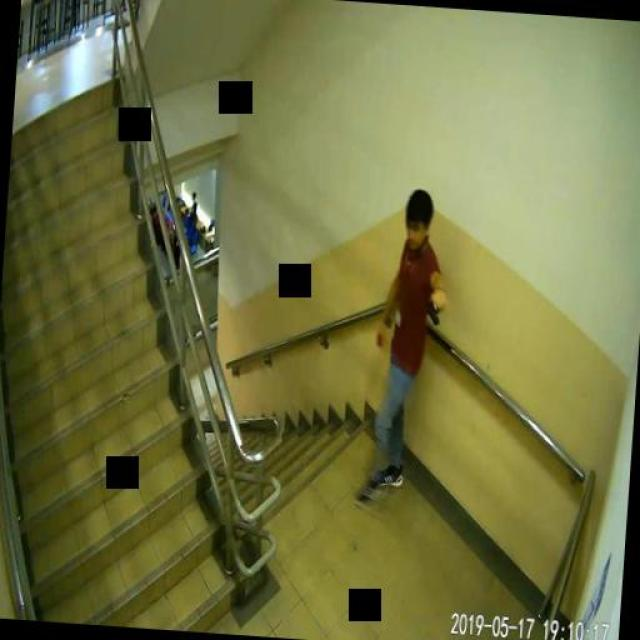gun: (424, 292, 445, 324)
